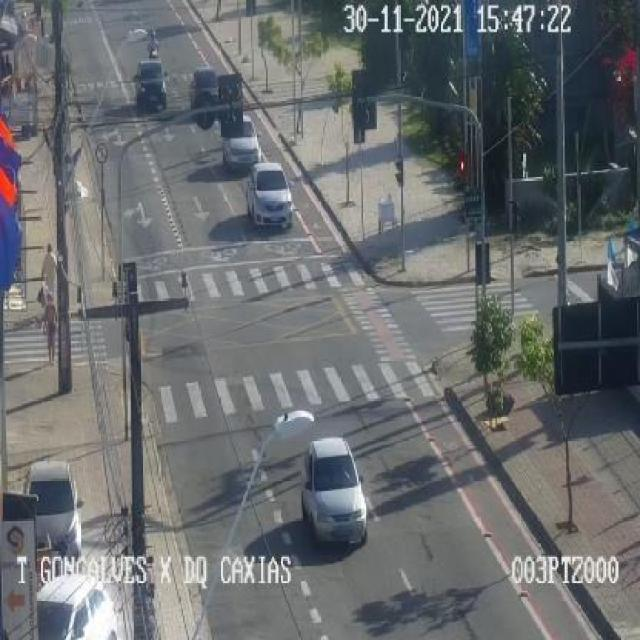car: (301, 438, 368, 544), (38, 576, 118, 640), (29, 461, 81, 556), (248, 162, 292, 227), (222, 116, 261, 169), (136, 59, 166, 113)
